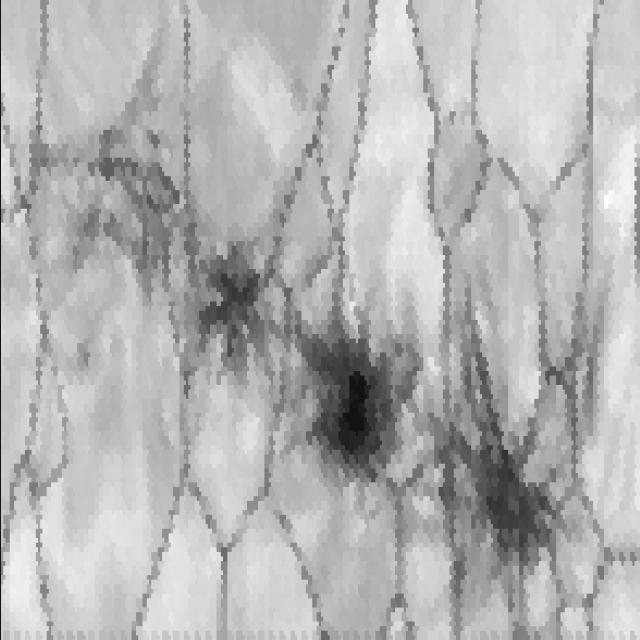good_void: (430, 299, 557, 598), (281, 275, 424, 504), (72, 46, 180, 282), (180, 226, 268, 382), (546, 242, 609, 450), (24, 133, 64, 197), (69, 315, 104, 385), (442, 103, 458, 132)
